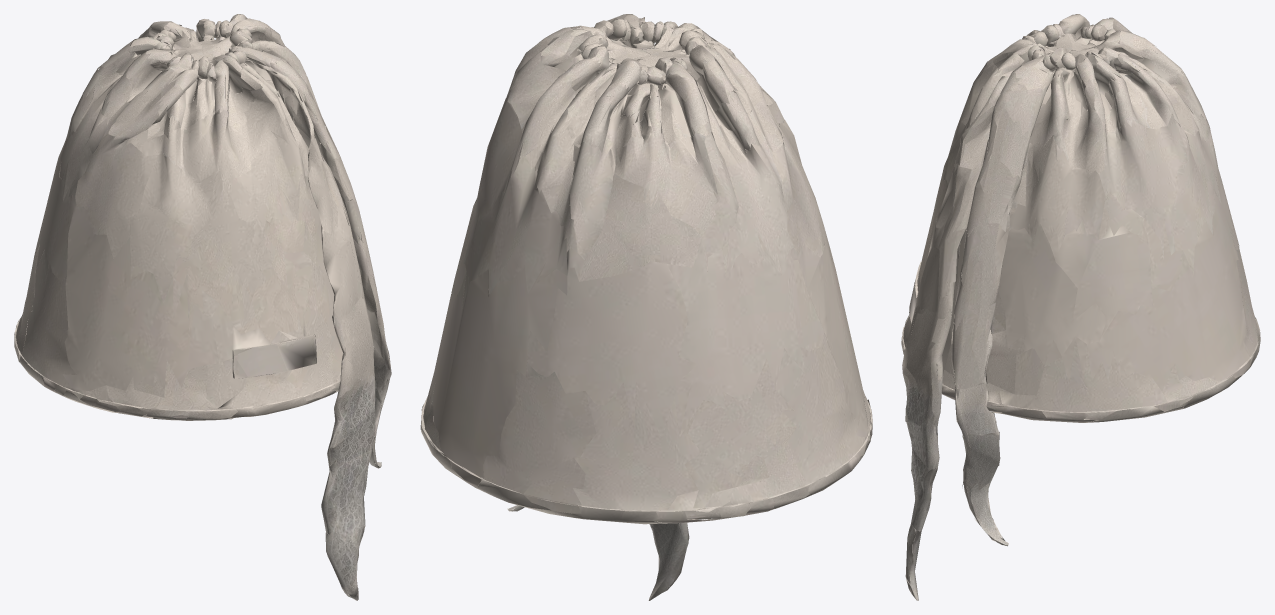
File: white-lace-lantern-cover.glb
The picture shows the model from 3 angles, left to right: view 1: azimuth 30°, elevation 25°; view 2: azimuth 150°, elevation 25°; view 3: azimuth 270°, elevation 25°; orthographic projection. The views are drawn at different scales.
Visible parts, largest first — view 1: Mesh_0; view 2: Mesh_0; view 3: Mesh_0.
Part boxes in pixels (<box>): Mesh_0: <box>14,14,391,600</box>; Mesh_0: <box>420,14,872,600</box>; Mesh_0: <box>901,14,1260,600</box>.
Size of the model in its own units: 1.18 by 1.91 by 1.17.
Materials: 1 (1 with a texture image).
